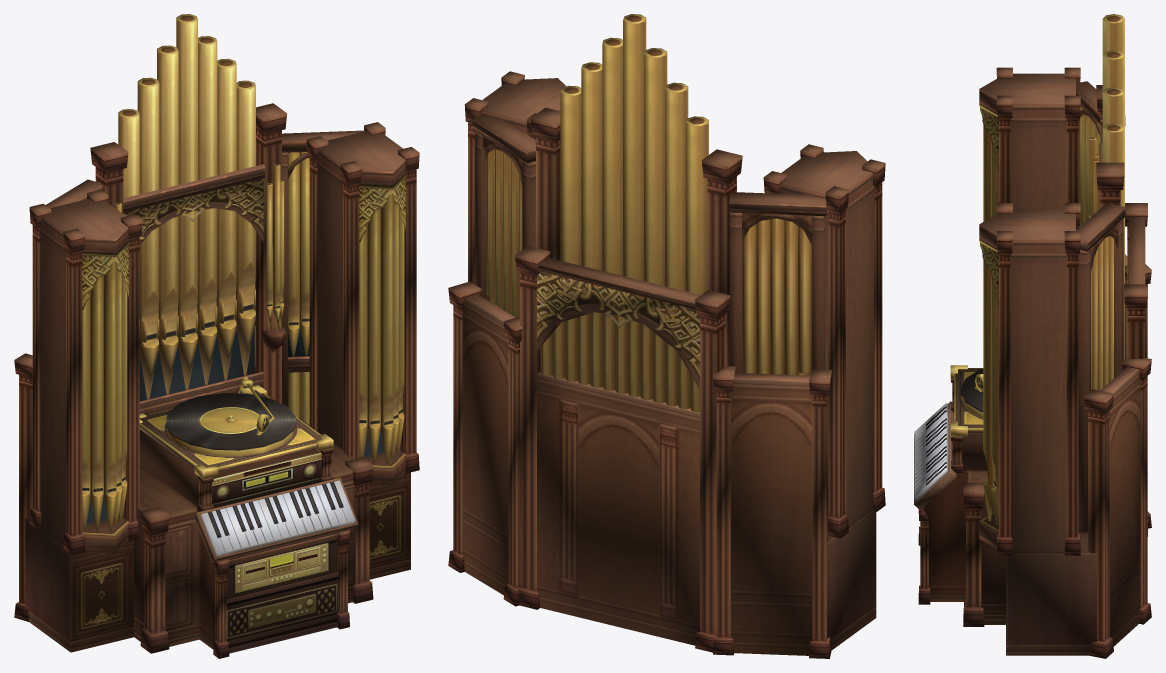
Rendered from my_event11_turntable.glb.
3 renders of one model, left to right at view 1: azimuth 30°, elevation 25°; view 2: azimuth 150°, elevation 25°; view 3: azimuth 270°, elevation 25°, orthographic. The views are drawn at different scales.
Parts seen in each view (by area): view 1: my_event11_turntable; view 2: my_event11_turntable; view 3: my_event11_turntable.
Boxes of the visible parts, left/top/right/bottom form: my_event11_turntable: left=14, top=14, right=419, bottom=658; my_event11_turntable: left=448, top=14, right=885, bottom=658; my_event11_turntable: left=914, top=14, right=1151, bottom=658.
Bounding box in the file's own units: 0.0146 × 0.0219 × 0.0085.
Materials: 1 (1 with a texture image).
